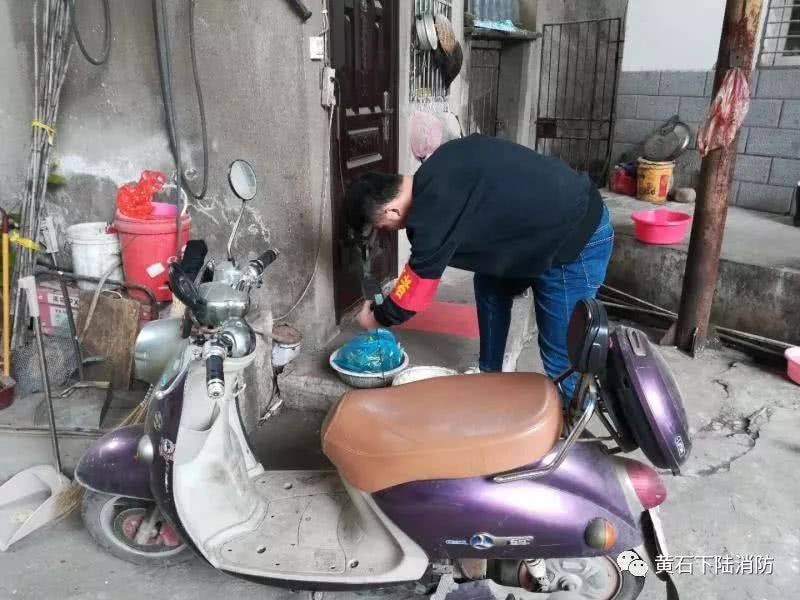电动车: (62, 232, 671, 600)
